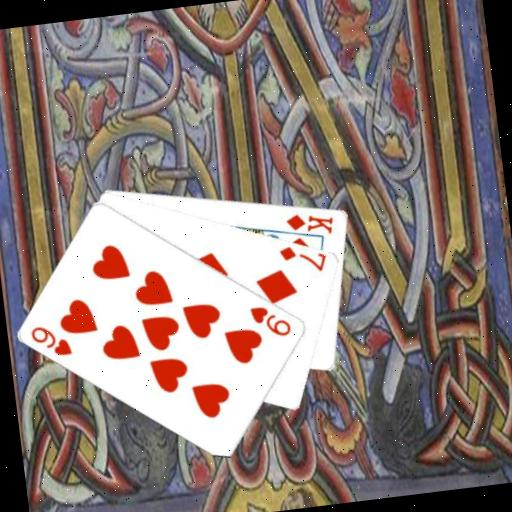7D: (275, 239, 329, 278)
9H: (247, 299, 295, 342), (27, 319, 75, 361)
KD: (282, 206, 337, 240)
